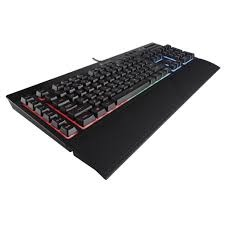keyboard: (6, 41, 198, 153)
